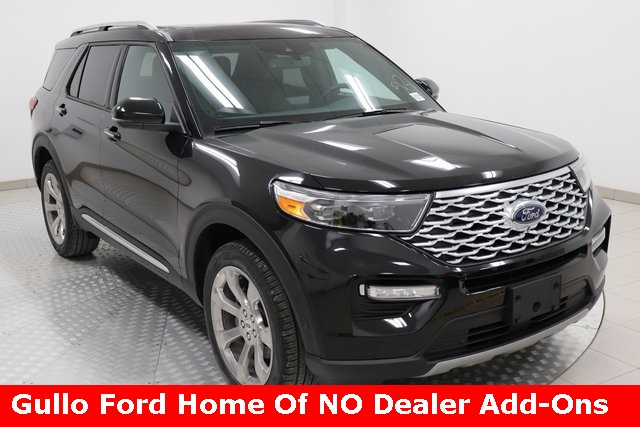Ford Explorer: (27, 18, 615, 386)
